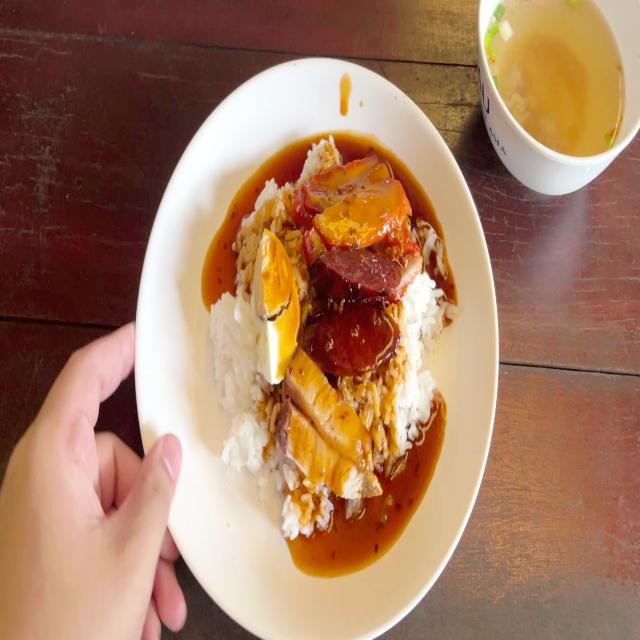boiled_egg: (252, 228, 294, 388)
chainese_sausage: (303, 245, 403, 373), (296, 300, 403, 378), (308, 251, 402, 298)
crispy_pork: (286, 352, 378, 497), (291, 356, 372, 459), (289, 417, 372, 487)
red_pork: (296, 148, 411, 250), (310, 179, 408, 249), (297, 155, 373, 220)
red_pork_and_crispy_pork: (207, 135, 451, 538)
rice: (386, 274, 450, 451), (212, 291, 253, 478), (286, 478, 318, 536), (266, 174, 296, 234), (349, 384, 398, 418), (242, 211, 254, 280)
